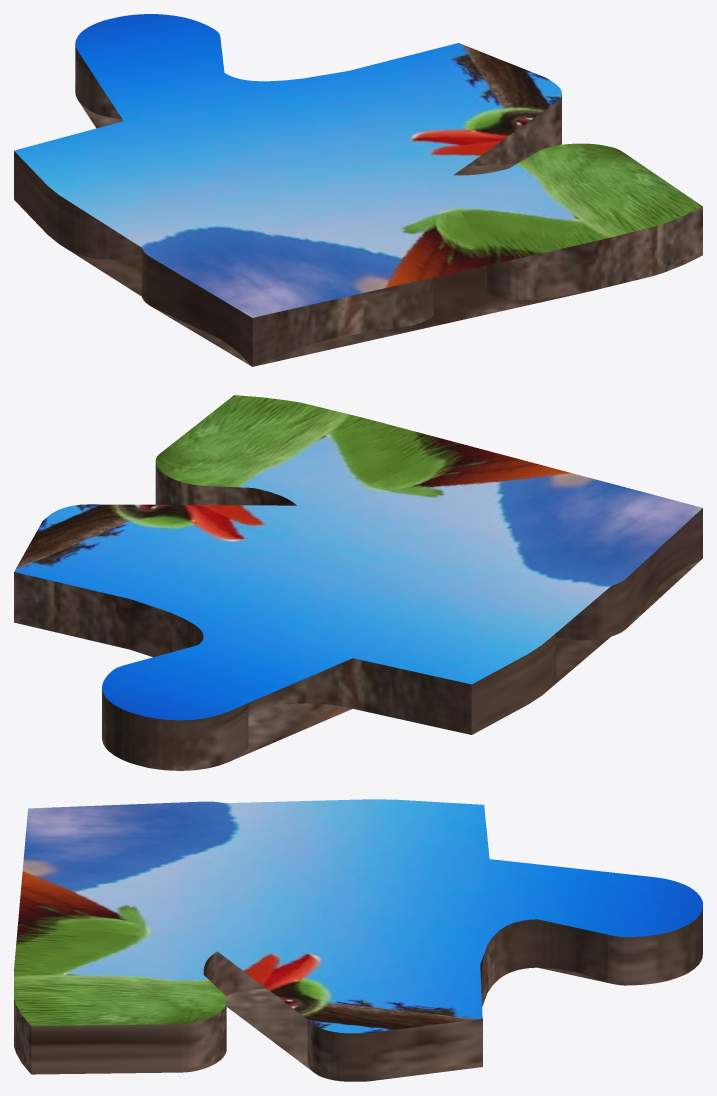
The model's file is PUZZLE2_4.fbx.
3 renders of one model, top to bottom at view 1: azimuth 30°, elevation 25°; view 2: azimuth 150°, elevation 25°; view 3: azimuth 270°, elevation 25°, orthographic. The views are drawn at different scales.
Visible parts, largest first — view 1: Puzzle 2 Bagian 4; view 2: Puzzle 2 Bagian 4; view 3: Puzzle 2 Bagian 4.
Boxes of the visible parts, x1=… form: Puzzle 2 Bagian 4: x1=14, y1=14, x2=702, y2=366; Puzzle 2 Bagian 4: x1=14, y1=395, x2=702, y2=770; Puzzle 2 Bagian 4: x1=14, y1=799, x2=702, y2=1081.
Size of the model in its own units: 189 by 18.2 by 235.
